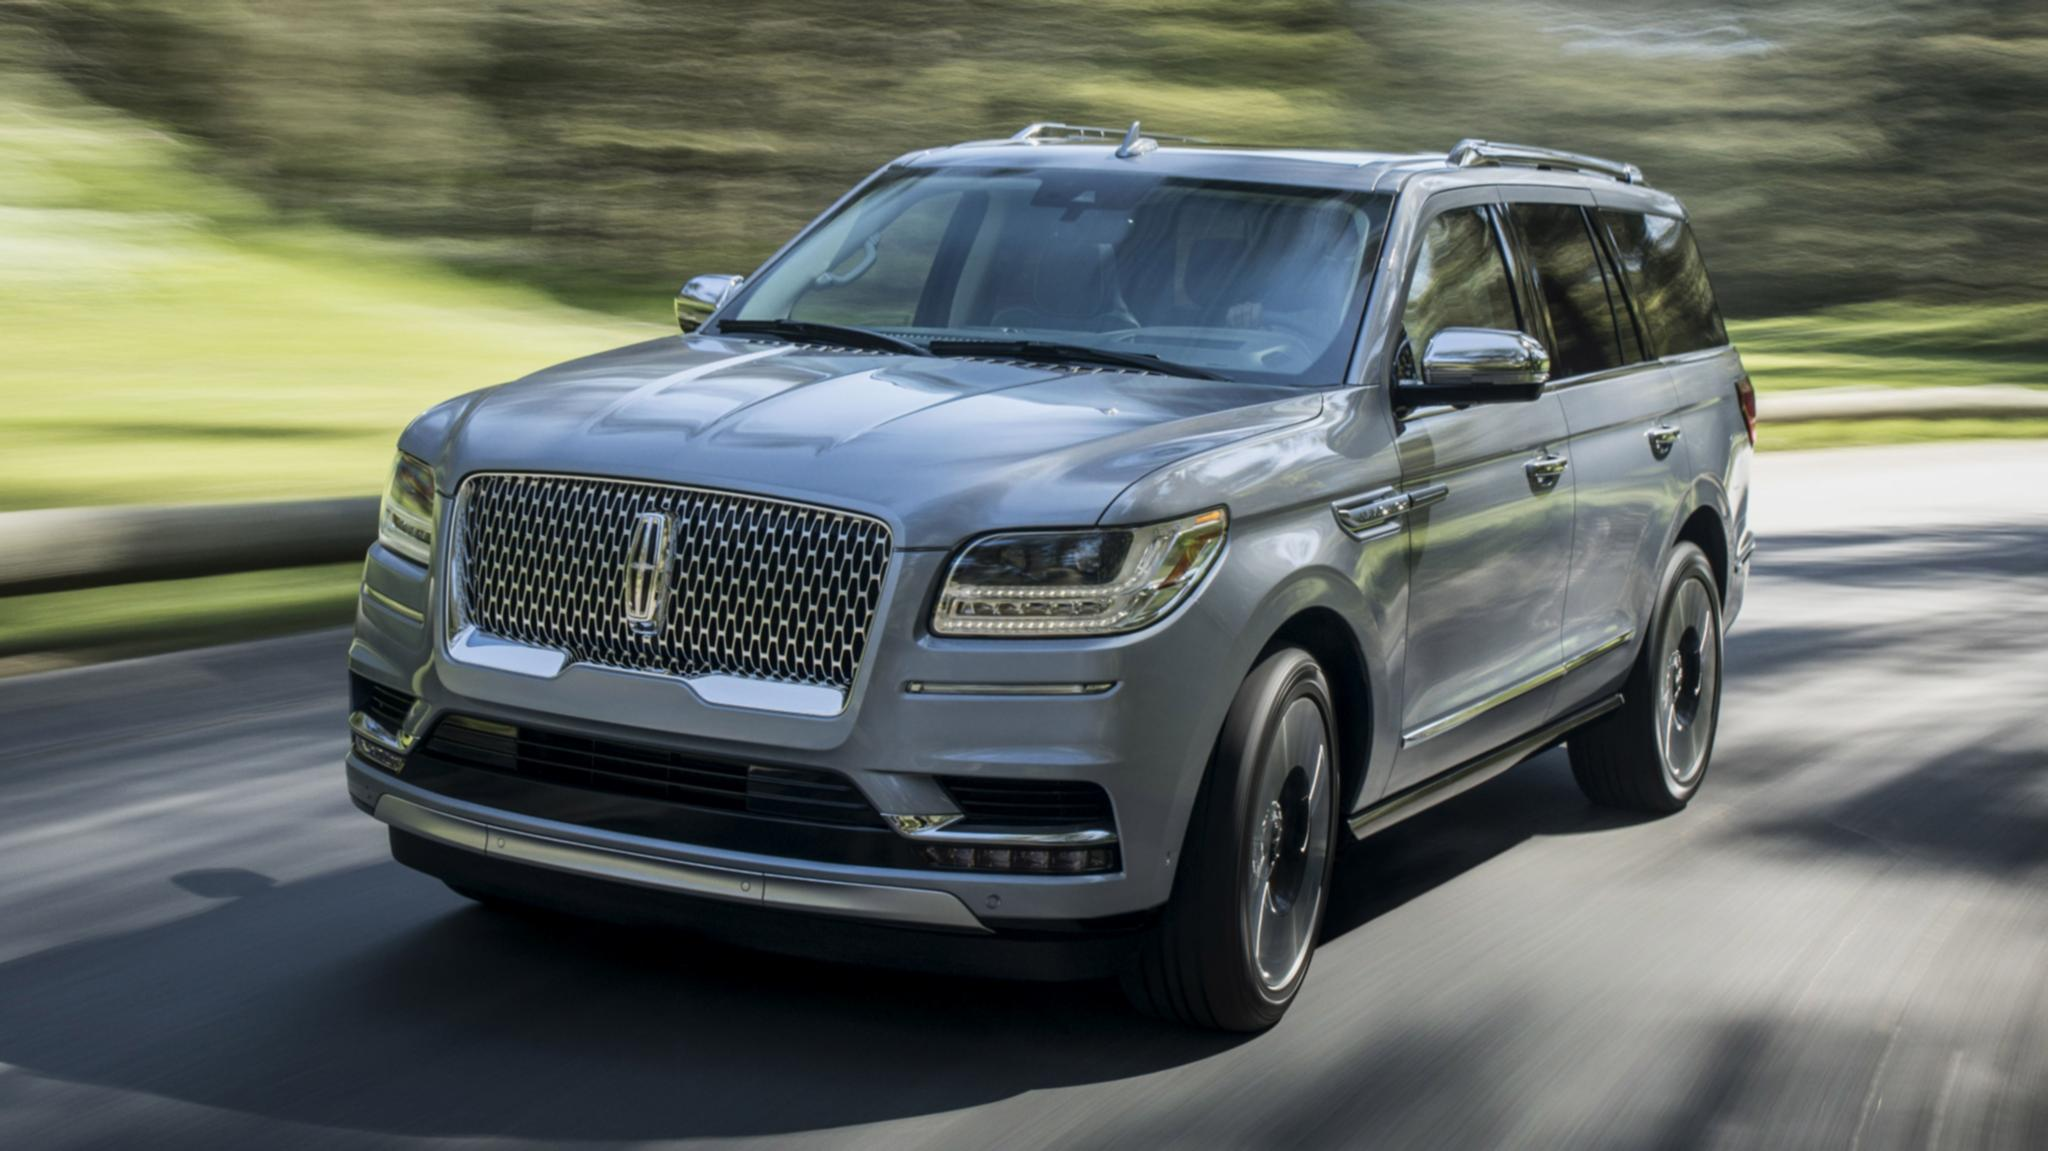lincoln: (609, 498, 675, 649)
